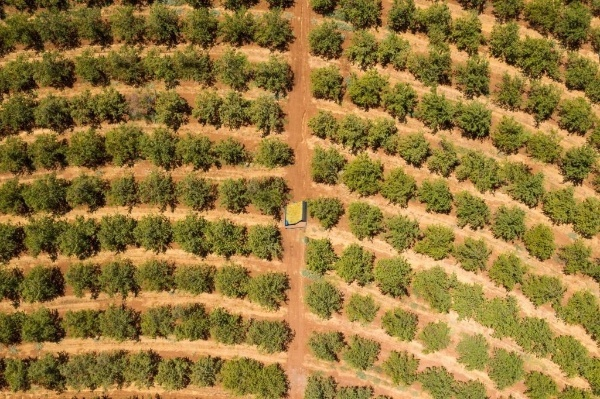TREE: (504, 161, 544, 207), (412, 266, 452, 311), (341, 245, 376, 289), (247, 319, 290, 354), (175, 216, 213, 255), (463, 151, 499, 192), (258, 12, 295, 51), (251, 271, 288, 310), (30, 353, 67, 392), (59, 221, 99, 257), (456, 56, 491, 97), (565, 145, 599, 187), (109, 48, 146, 86), (27, 134, 67, 169), (140, 171, 177, 208), (560, 292, 598, 328), (141, 129, 176, 168), (304, 237, 339, 276), (524, 40, 559, 79), (177, 134, 217, 168), (212, 218, 246, 258), (489, 294, 519, 339), (555, 333, 586, 376), (569, 58, 600, 101), (217, 51, 253, 88), (24, 307, 62, 342), (457, 192, 492, 230), (38, 13, 77, 47), (255, 58, 294, 92), (70, 129, 104, 168), (99, 308, 139, 341), (522, 317, 554, 358), (96, 350, 127, 392), (68, 174, 104, 210), (181, 176, 218, 211), (227, 357, 261, 395), (455, 10, 485, 53), (347, 157, 380, 196), (29, 179, 65, 214), (308, 22, 343, 58), (352, 74, 388, 109), (211, 309, 248, 343), (377, 32, 414, 66), (106, 128, 139, 166), (491, 349, 523, 388), (422, 91, 453, 131), (135, 216, 171, 250), (384, 350, 418, 386), (37, 54, 74, 87), (460, 103, 493, 140), (181, 264, 219, 296), (253, 96, 283, 136), (529, 275, 569, 305), (417, 46, 452, 80), (100, 216, 133, 252), (157, 90, 189, 127), (27, 217, 59, 254), (103, 263, 140, 295), (457, 334, 489, 371), (490, 24, 521, 62), (180, 51, 214, 85), (418, 365, 452, 399), (311, 67, 345, 101), (186, 9, 218, 45), (495, 118, 527, 154), (380, 259, 411, 296), (386, 169, 417, 206), (547, 186, 578, 223), (562, 98, 593, 135), (255, 178, 285, 216), (130, 349, 159, 388), (150, 7, 184, 40), (497, 74, 525, 114), (530, 81, 558, 121), (223, 9, 254, 45), (179, 305, 210, 341), (371, 120, 402, 156), (454, 280, 484, 317), (560, 7, 590, 44), (260, 361, 289, 399), (256, 139, 295, 167), (310, 331, 344, 363), (308, 286, 342, 318), (493, 254, 525, 288), (559, 239, 590, 274), (212, 138, 252, 165), (25, 265, 54, 302), (348, 337, 380, 370), (422, 179, 453, 213), (529, 223, 556, 262), (342, 1, 381, 28), (349, 202, 379, 237), (423, 225, 453, 260), (78, 10, 109, 43), (112, 9, 145, 40), (146, 51, 177, 84), (37, 97, 68, 130), (143, 260, 176, 291), (494, 207, 524, 241), (423, 4, 451, 40), (4, 14, 35, 46), (143, 305, 174, 337), (532, 132, 563, 164), (2, 99, 32, 132), (348, 292, 378, 325), (527, 1, 557, 34), (2, 59, 31, 93), (1, 139, 30, 173), (309, 199, 343, 228), (314, 148, 342, 183), (70, 352, 95, 391), (223, 94, 250, 130), (110, 173, 137, 209), (524, 372, 560, 399), (459, 236, 486, 272), (77, 53, 109, 83), (162, 357, 192, 389), (391, 81, 415, 121), (338, 118, 371, 147), (65, 309, 97, 338), (384, 310, 416, 339), (223, 179, 251, 212), (221, 264, 248, 298), (1, 221, 25, 259), (401, 136, 431, 166), (100, 92, 128, 124), (194, 355, 222, 387), (578, 197, 600, 237), (195, 89, 220, 124), (252, 228, 282, 257), (65, 263, 92, 295), (3, 359, 30, 391), (390, 217, 417, 248), (354, 32, 378, 66), (420, 323, 448, 352), (70, 93, 97, 123), (304, 374, 336, 399), (434, 141, 457, 175), (1, 310, 22, 346), (311, 114, 341, 139), (4, 182, 26, 214), (128, 93, 153, 121), (455, 378, 487, 399), (390, 1, 412, 31), (493, 2, 523, 21), (4, 268, 22, 297), (564, 385, 599, 399), (342, 387, 375, 399), (310, 1, 339, 14), (590, 358, 600, 395)
